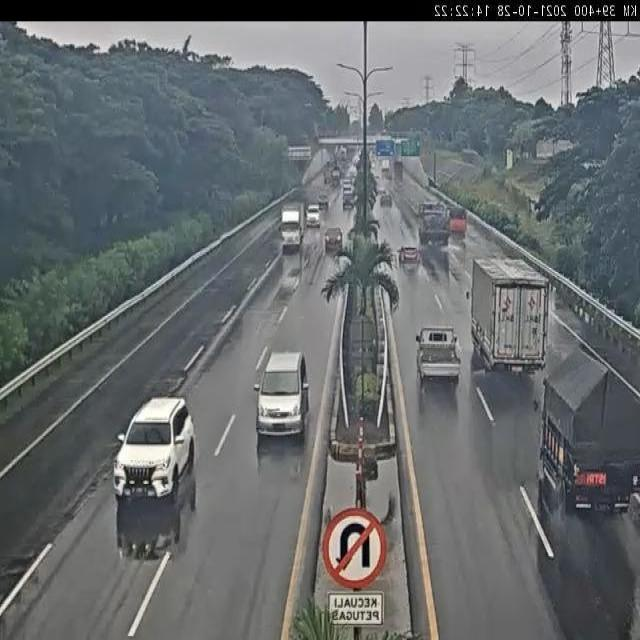Car: (110, 374, 196, 533), (249, 328, 320, 456), (399, 324, 475, 394), (389, 239, 426, 278), (317, 228, 353, 268)
Truck: (525, 334, 639, 518), (459, 248, 567, 392), (263, 197, 310, 268)
